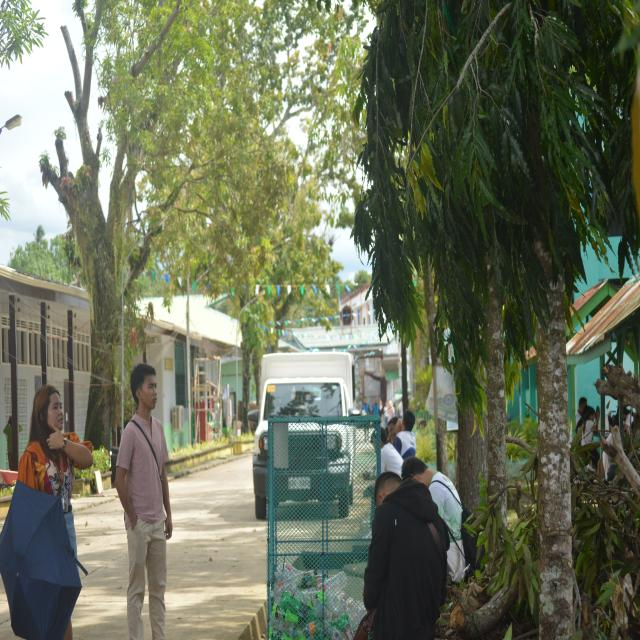person: (116, 364, 172, 639), (364, 472, 448, 639), (18, 385, 93, 558), (402, 457, 466, 582), (394, 409, 415, 459), (381, 428, 402, 475)
